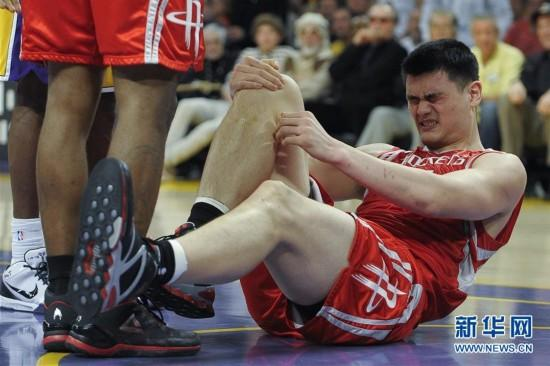down: (61, 48, 528, 346)
